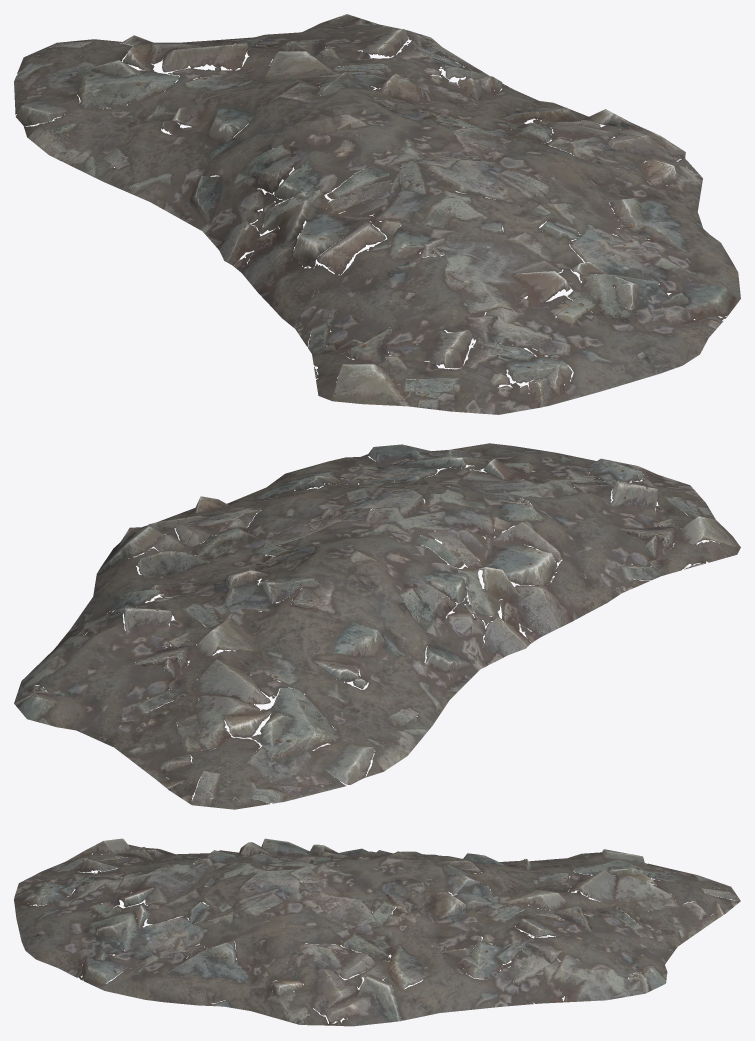
3 renders of one model, top to bottom at view 1: azimuth 30°, elevation 25°; view 2: azimuth 150°, elevation 25°; view 3: azimuth 270°, elevation 25°, orthographic. The views are drawn at different scales.
Parts seen in each view (by area): view 1: SM_SaradominTemple_Rubble_02_v7_LOD0; view 2: SM_SaradominTemple_Rubble_02_v7_LOD0; view 3: SM_SaradominTemple_Rubble_02_v7_LOD0.
Boxes of the visible parts, box(x1,y1,x2,y2) form: SM_SaradominTemple_Rubble_02_v7_LOD0: box(14, 14, 740, 414); SM_SaradominTemple_Rubble_02_v7_LOD0: box(14, 443, 740, 809); SM_SaradominTemple_Rubble_02_v7_LOD0: box(14, 838, 740, 1026).
Bounding box in the file's own units: 3.63 × 0.5677 × 6.04.
1 material, 1 textured.
